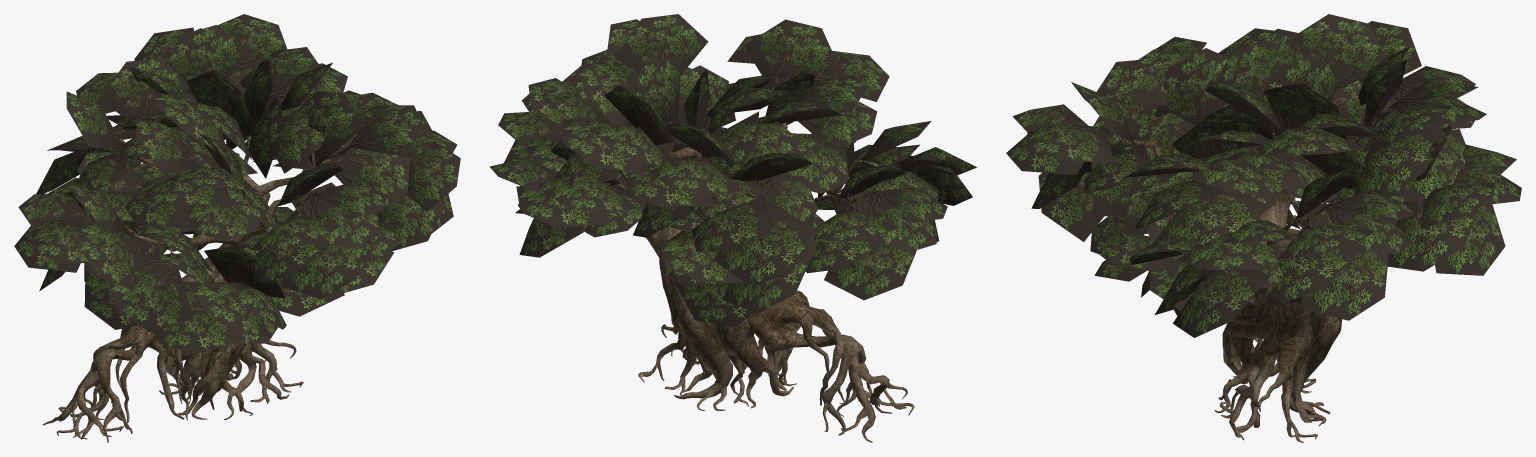
File: Gate01.FBX
The picture shows the model from 3 angles, left to right: view 1: azimuth 30°, elevation 25°; view 2: azimuth 150°, elevation 25°; view 3: azimuth 270°, elevation 25°; orthographic projection. The views are drawn at different scales.
Visible parts, largest first — view 1: LV_TurtleLake_Lakevillage_GateTree02_PM_IJH, LV_TurtleLake_Lakevillage_GateTree01_SM_EYE; view 2: LV_TurtleLake_Lakevillage_GateTree02_PM_IJH, LV_TurtleLake_Lakevillage_GateTree01_SM_EYE; view 3: LV_TurtleLake_Lakevillage_GateTree02_PM_IJH, LV_TurtleLake_Lakevillage_GateTree01_SM_EYE.
Part boxes in pixels (x1,y1,x2,y2): LV_TurtleLake_Lakevillage_GateTree02_PM_IJH: [14, 14, 460, 353]; LV_TurtleLake_Lakevillage_GateTree01_SM_EYE: [42, 138, 316, 442]; LV_TurtleLake_Lakevillage_GateTree02_PM_IJH: [489, 14, 976, 326]; LV_TurtleLake_Lakevillage_GateTree01_SM_EYE: [638, 87, 914, 442]; LV_TurtleLake_Lakevillage_GateTree02_PM_IJH: [1006, 14, 1521, 337]; LV_TurtleLake_Lakevillage_GateTree01_SM_EYE: [1127, 136, 1360, 442].
Size of the model in its own units: 633 by 488 by 607.
